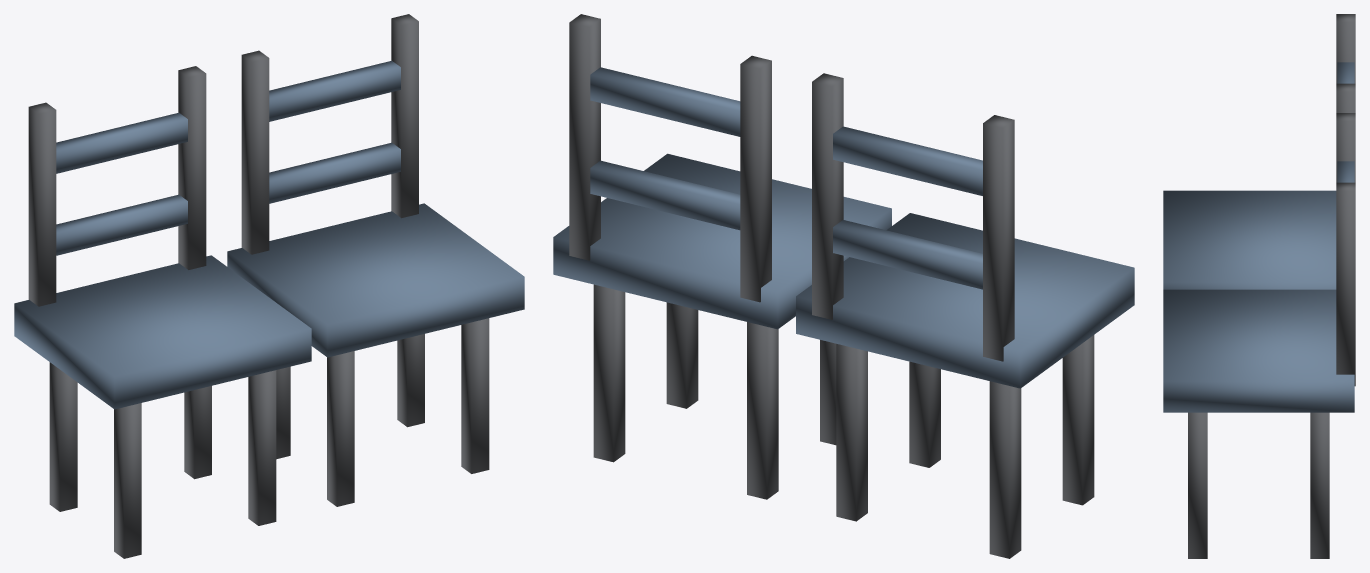
The model's file is interview_chair__cluster.glb.
3 views of the same model, side by side, from view 1: azimuth 30°, elevation 25°; view 2: azimuth 150°, elevation 25°; view 3: azimuth 270°, elevation 25° (orthographic). The views are drawn at different scales.
Visible parts, largest first — view 1: world; view 2: world; view 3: world.
Part boxes in pixels (x1,y1,x2,y2): world: (14, 14, 524, 558); world: (553, 14, 1134, 558); world: (1163, 14, 1355, 558).
Bounding box in the file's own units: 1.05 × 0.9515 × 0.4462.
